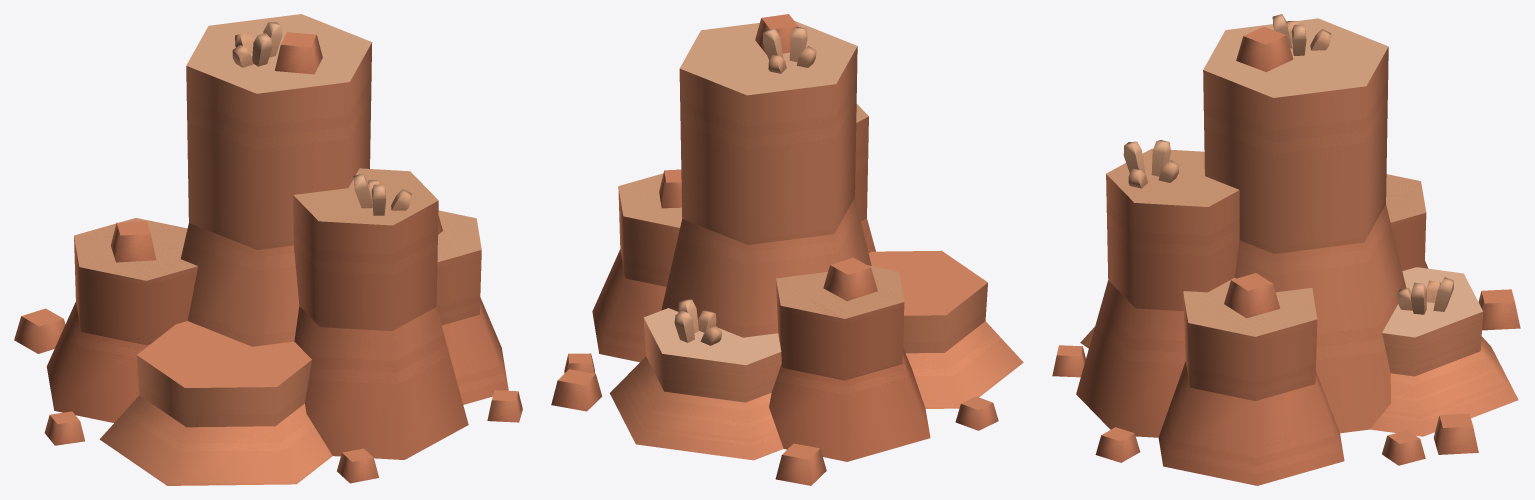
Rendered from rocks-sand-b_lev2.glb.
3 views of the same model, side by side, from view 1: azimuth 30°, elevation 25°; view 2: azimuth 150°, elevation 25°; view 3: azimuth 270°, elevation 25° (orthographic). The views are drawn at different scales.
Parts seen in each view (by area): view 1: rocks-sand-b_lev2; view 2: rocks-sand-b_lev2; view 3: rocks-sand-b_lev2.
Boxes of the visible parts, x1=… form: rocks-sand-b_lev2: x1=14, y1=14, x2=522, y2=485; rocks-sand-b_lev2: x1=551, y1=14, x2=1023, y2=485; rocks-sand-b_lev2: x1=1052, y1=14, x2=1520, y2=485.
Size of the model in its own units: 10.78 by 8.5 by 10.05.
1 material, 1 textured.
